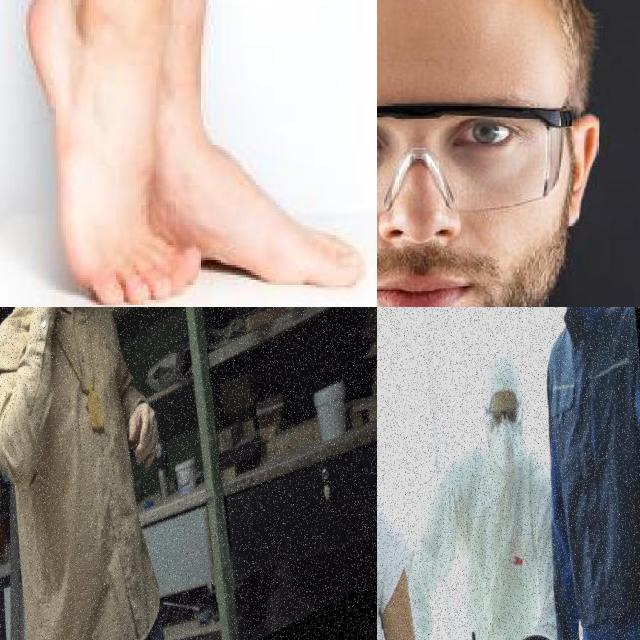Barefoots: (25, 0, 206, 307), (141, 75, 373, 307)
No_Ear-Protection: (568, 117, 604, 228)
face_nomask: (377, 165, 569, 307)
glasses: (377, 104, 573, 213)
